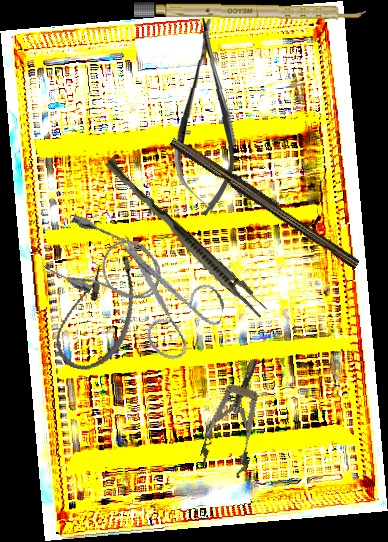Cannula: (41, 210, 171, 318), (49, 244, 147, 379)
Iris Scissors: (93, 231, 236, 369)
Micro Scissor: (171, 17, 242, 217)
Scalpel Handle: (167, 133, 364, 270), (133, 1, 367, 22)
Speculum: (196, 353, 279, 480)
Tissue Forceps: (99, 156, 272, 320)
